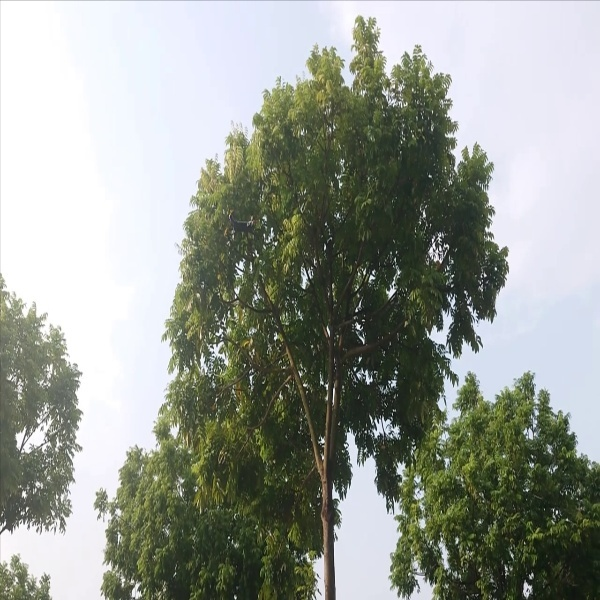drone: (223, 207, 263, 242)
